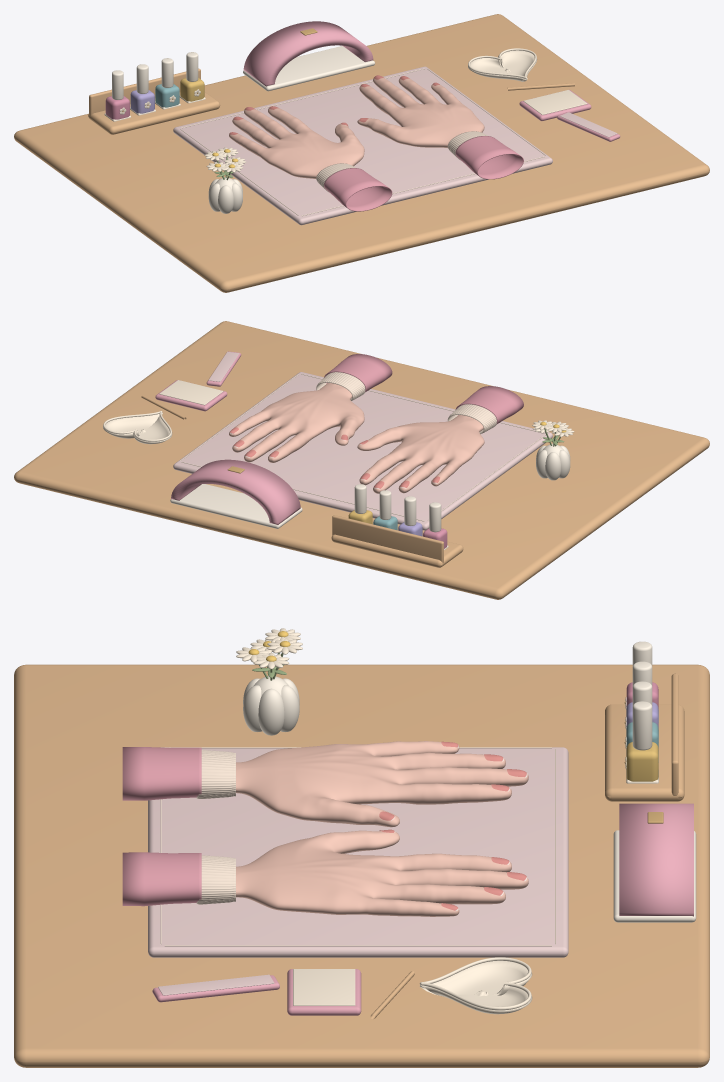
Rendered from Atelier.fbx.
3 views of the same model, one above another, from view 1: azimuth 30°, elevation 25°; view 2: azimuth 150°, elevation 25°; view 3: azimuth 270°, elevation 25° (orthographic). The views are drawn at different scales.
Parts seen in each view (by area): view 1: Worktable, WorkMat, Hand_1, Hand_0, LampBody, LampBase, Sleeve_1, Sleeve_0, BottleShelf, Tray, DaisyVase, DisplayBoard (+6 smaller); view 2: Worktable, WorkMat, Hand_0, Hand_1, LampBody, LampBase, ShelfBack, Tray, Sleeve_0, Sleeve_1, BottleShelf, DaisyVase (+4 smaller); view 3: Worktable, WorkMat, Hand_1, Hand_0, LampBody, BottleShelf, Tray, Sleeve_0, Sleeve_1, DaisyVase, DisplayBoard, Cuff_1 (+9 smaller).
Boxes of the visible parts, <box> form: Worktable: <box>14,14,709,292</box>; WorkMat: <box>173,66,552,225</box>; Hand_1: <box>357,78,484,147</box>; Hand_0: <box>229,108,364,178</box>; LampBody: <box>243,21,373,86</box>; LampBase: <box>243,46,375,91</box>; Sleeve_1: <box>455,136,523,179</box>; Sleeve_0: <box>324,168,392,211</box>; BottleShelf: <box>88,92,220,134</box>; Tray: <box>468,48,537,81</box>; DaisyVase: <box>208,177,242,213</box>; DisplayBoard: <box>523,90,587,114</box>; Worktable: <box>14,321,709,599</box>; WorkMat: <box>173,372,552,530</box>; Hand_0: <box>357,415,484,493</box>; Hand_1: <box>229,383,364,462</box>; LampBody: <box>171,459,300,524</box>; LampBase: <box>170,484,302,528</box>; ShelfBack: <box>332,515,443,562</box>; Tray: <box>103,411,172,444</box>; Sleeve_0: <box>455,386,523,423</box>; Sleeve_1: <box>324,354,392,391</box>; BottleShelf: <box>331,523,463,567</box>; DaisyVase: <box>536,443,570,480</box>; Worktable: <box>14,664,709,1067</box>; WorkMat: <box>148,747,568,957</box>; Hand_1: <box>236,830,528,916</box>; Hand_0: <box>236,741,528,827</box>; LampBody: <box>619,803,693,916</box>; BottleShelf: <box>605,704,684,801</box>; Tray: <box>419,957,532,1014</box>; Sleeve_0: <box>122,747,201,800</box>; Sleeve_1: <box>122,852,201,906</box>; DaisyVase: <box>243,675,299,735</box>; DisplayBoard: <box>293,969,355,1005</box>; Cuff_1: <box>196,855,235,904</box>.
Size of the model in its own units: 1280 by 163 by 960.
